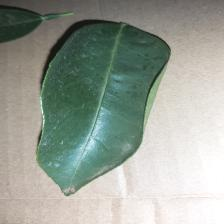healthy: (52, 23, 198, 180)
